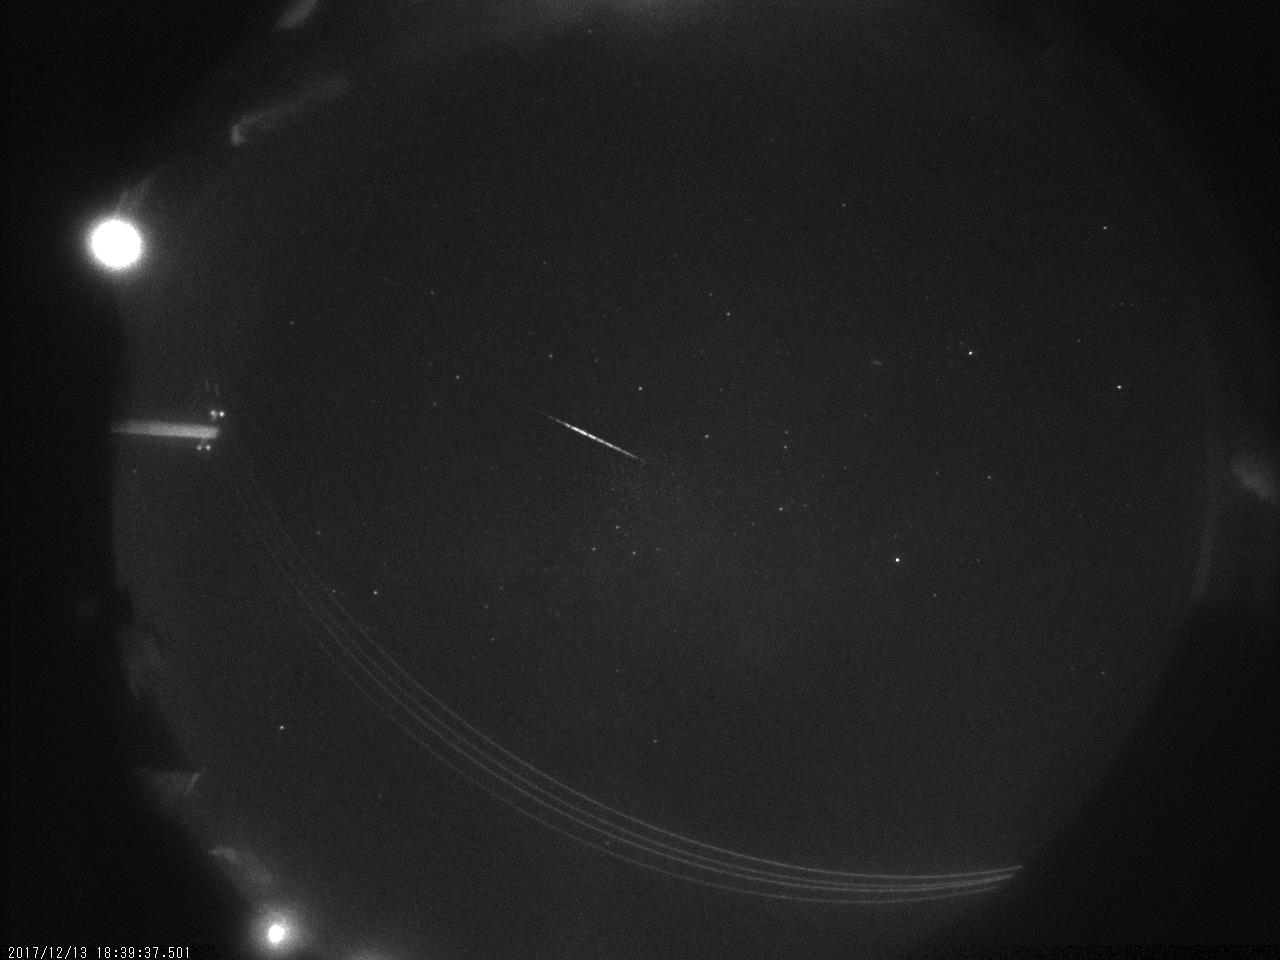meteor: (521, 398, 661, 471)
